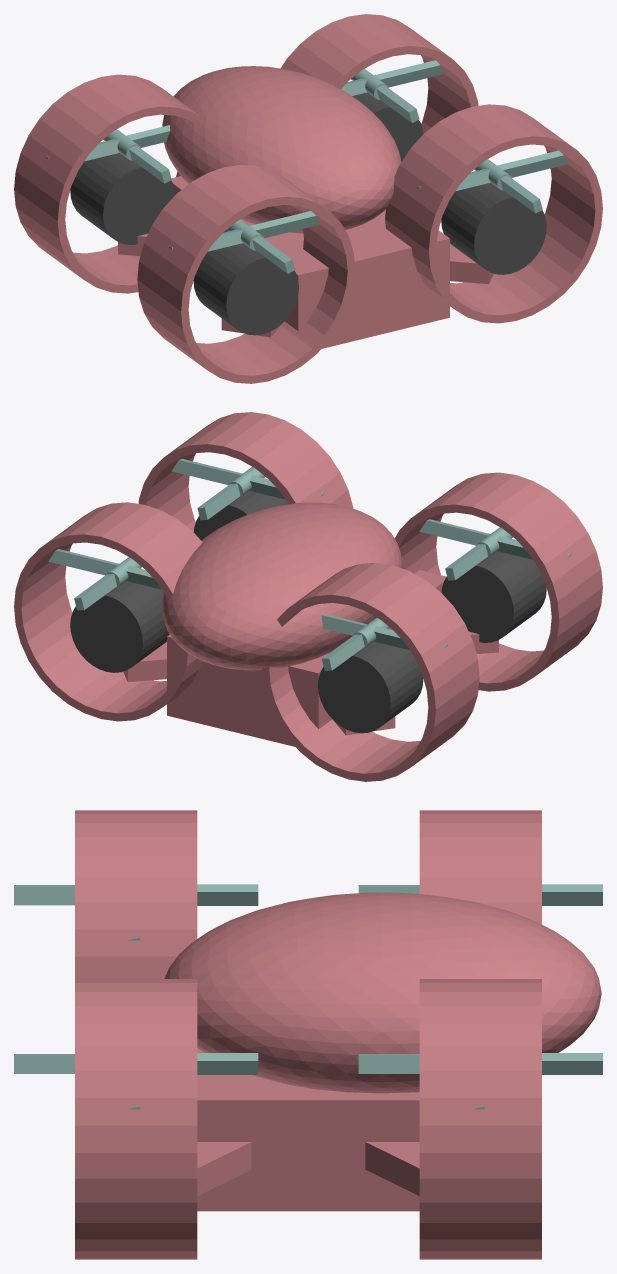
Rendered from Meteor 65.glb.
3 views of the same model, one above another, from view 1: azimuth 30°, elevation 25°; view 2: azimuth 150°, elevation 25°; view 3: azimuth 270°, elevation 25° (orthographic). The views are drawn at different scales.
Visible parts, largest first — view 1: canopy, duct_0, duct_2, duct_3, frame_body, duct_1, motor_2, motor_0, motor_3, prop_0, prop_2, prop_1 (+3 smaller); view 2: canopy, duct_3, duct_1, duct_2, duct_0, frame_body, motor_3, motor_1, motor_2, prop_2, prop_0, prop_1 (+3 smaller); view 3: canopy, duct_1, duct_0, frame_body, duct_2, duct_3, prop_2, prop_0, prop_1, arm_0, arm_1, prop_3.
Boxes of the visible parts, x1,y1,x2,y2 form: canopy: (162, 66, 401, 233); duct_0: (385, 104, 602, 323); duct_2: (137, 164, 355, 383); duct_3: (14, 74, 202, 293); frame_body: (171, 176, 449, 348); duct_1: (280, 14, 478, 133); motor_2: (193, 243, 298, 335); motor_0: (441, 182, 546, 274); motor_3: (70, 153, 175, 244); prop_0: (415, 150, 567, 213); prop_2: (168, 211, 320, 273); prop_1: (341, 60, 444, 123); canopy: (162, 502, 402, 670); duct_3: (262, 562, 479, 781); duct_1: (14, 502, 202, 721); duct_2: (394, 472, 602, 691); duct_0: (138, 412, 353, 531); frame_body: (167, 570, 446, 746); motor_3: (318, 641, 423, 733); motor_1: (70, 581, 169, 672); motor_2: (441, 551, 546, 642); prop_2: (419, 519, 571, 580); prop_0: (172, 458, 323, 520); prop_1: (48, 549, 161, 610); canopy: (164, 892, 601, 1093); duct_1: (419, 979, 541, 1259); duct_0: (75, 979, 197, 1259); frame_body: (197, 1048, 419, 1211); duct_2: (75, 810, 197, 978); duct_3: (419, 810, 541, 924); prop_2: (14, 884, 258, 940); prop_0: (14, 1053, 258, 1109); prop_1: (358, 1053, 602, 1109); arm_0: (197, 1142, 251, 1195); arm_1: (365, 1142, 419, 1195); prop_3: (358, 884, 602, 905).
Bounding box in the file's own units: 0.1114 × 0.046 × 0.0964.
